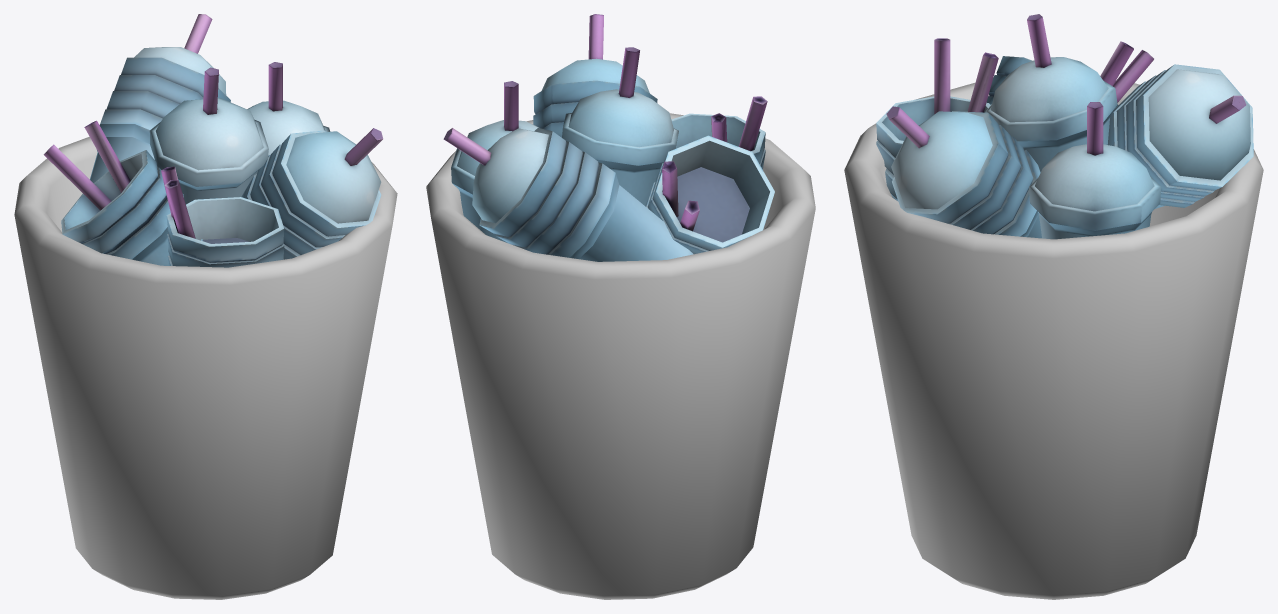
File: Basurero.fbx
3 views of the same model, side by side, from view 1: azimuth 30°, elevation 25°; view 2: azimuth 150°, elevation 25°; view 3: azimuth 270°, elevation 25° (orthographic). The views are drawn at different scales.
Parts seen in each view (by area): view 1: Cylinder, pila_vasos_1, pila_vasos_2.001, vaso.001, pila_vasos_1.001, pila_vasos_2, vaso; view 2: Cylinder, pila_vasos_1.001, pila_vasos_2.001, vaso.001, pila_vasos_1, pila_vasos_2, vaso; view 3: Cylinder, pila_vasos_1, pila_vasos_1.001, vaso, vaso.001, pila_vasos_2, pila_vasos_2.001.
Part boxes in pixels (bbox=[...]): Cylinder: bbox=[14, 136, 397, 599]; pila_vasos_1: bbox=[241, 128, 383, 259]; pila_vasos_2.001: bbox=[43, 120, 202, 265]; vaso.001: bbox=[149, 67, 268, 204]; pila_vasos_1.001: bbox=[90, 14, 230, 183]; pila_vasos_2: bbox=[161, 166, 284, 267]; vaso: bbox=[247, 62, 330, 155]; Cylinder: bbox=[426, 113, 815, 599]; pila_vasos_1.001: bbox=[443, 128, 693, 261]; pila_vasos_2.001: bbox=[645, 135, 774, 254]; vaso.001: bbox=[562, 47, 678, 205]; pila_vasos_1: bbox=[533, 14, 657, 137]; pila_vasos_2: bbox=[671, 96, 767, 169]; vaso: bbox=[451, 81, 538, 242]; Cylinder: bbox=[844, 83, 1263, 599]; pila_vasos_1: bbox=[886, 106, 1041, 238]; pila_vasos_1.001: bbox=[1107, 64, 1253, 208]; vaso: bbox=[1029, 102, 1161, 239]; vaso.001: bbox=[985, 14, 1117, 172]; pila_vasos_2: bbox=[876, 38, 998, 200]; pila_vasos_2.001: bbox=[986, 41, 1153, 107].
Bounding box in the file's own units: 1171 × 1627 × 1171.
